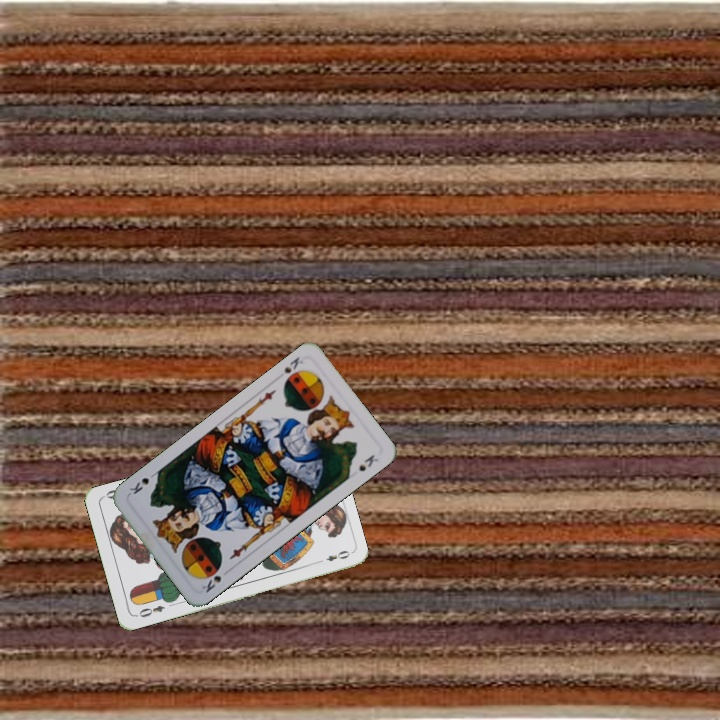EO: (132, 601, 167, 620)
SK: (198, 571, 224, 596), (279, 353, 306, 376)
